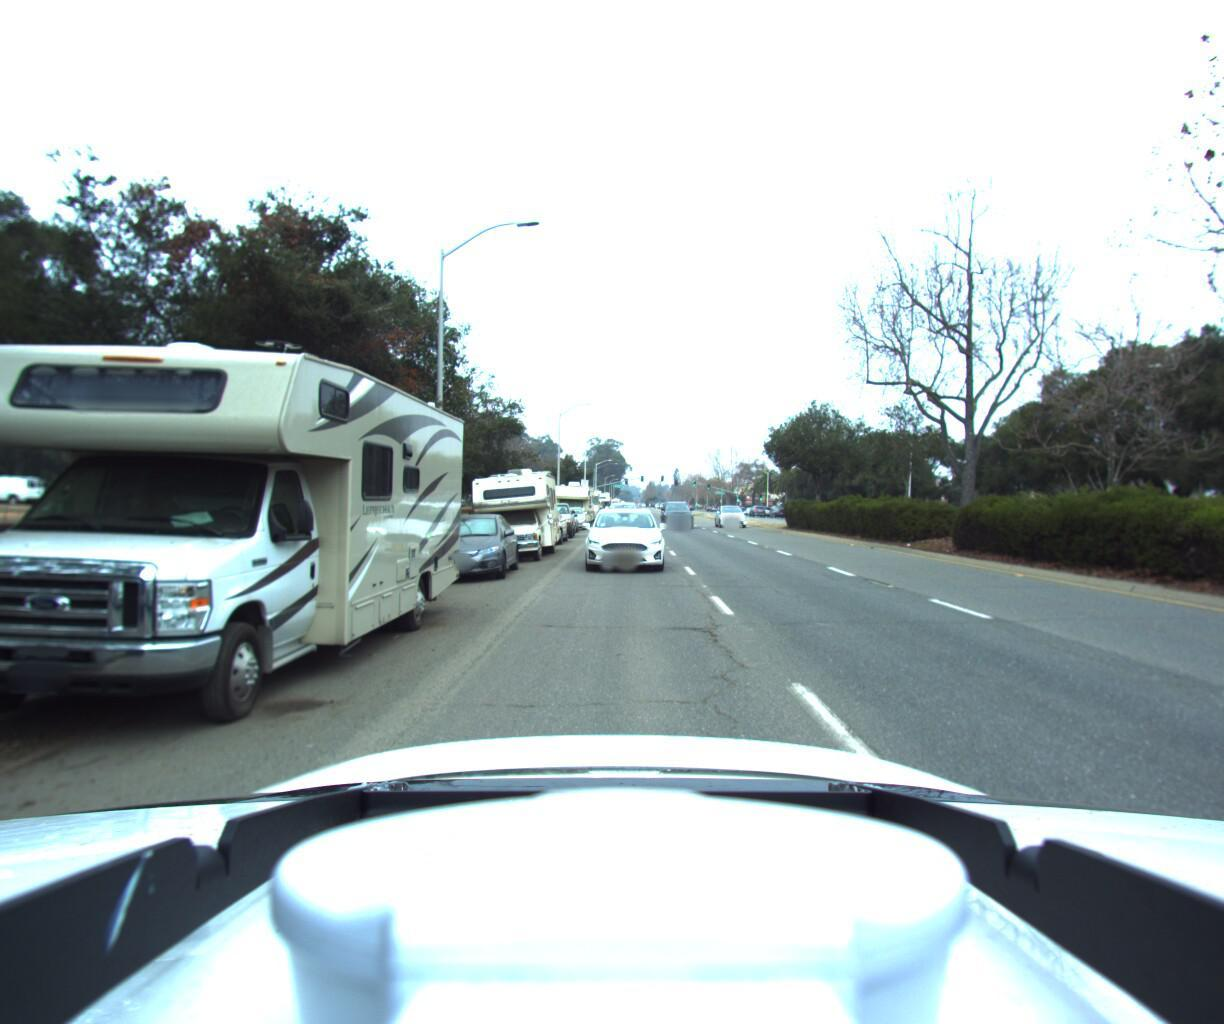car: (407, 510, 519, 587), (571, 505, 661, 574), (526, 501, 573, 540), (605, 502, 639, 533), (714, 504, 751, 529), (662, 504, 695, 530), (552, 505, 584, 531)
other_vehicle: (0, 256, 466, 767), (446, 458, 562, 565), (546, 480, 593, 527), (566, 487, 599, 522)
